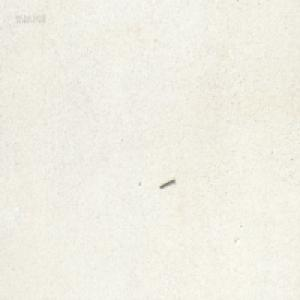Bolt: (158, 176, 174, 188)
